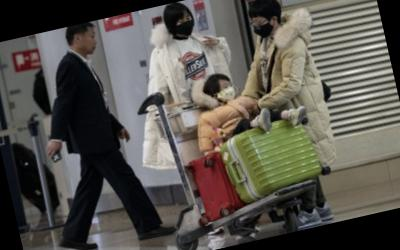with_mask: (250, 14, 276, 41), (174, 14, 198, 39), (215, 80, 238, 104)
without_mask: (80, 30, 102, 57)
